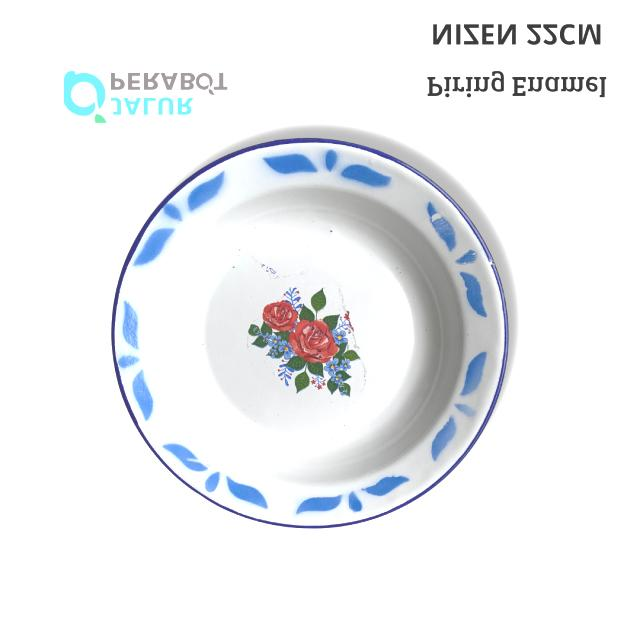Piring: (95, 128, 524, 552)
